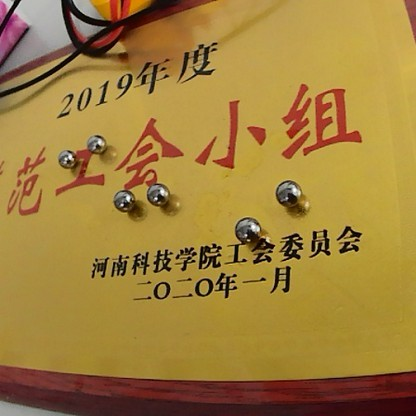ironball: (231, 211, 265, 250), (272, 177, 301, 206), (113, 186, 137, 213), (50, 146, 76, 170), (87, 131, 110, 154), (146, 182, 165, 207)
